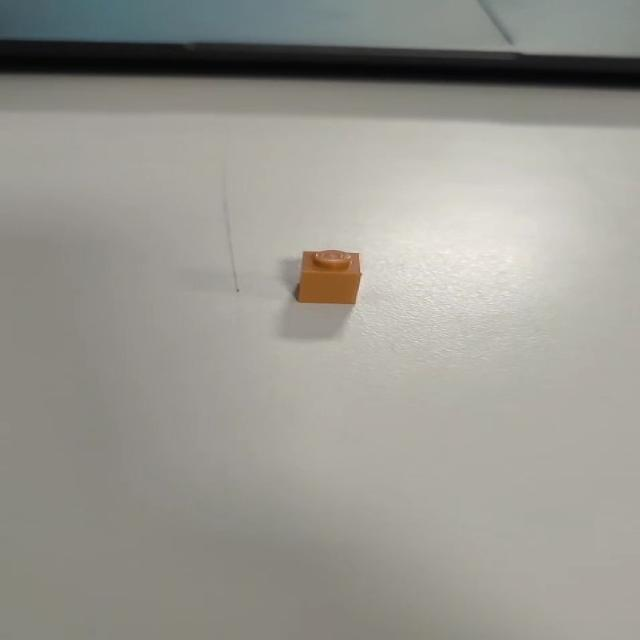C1x1x1: (294, 248, 362, 305)
